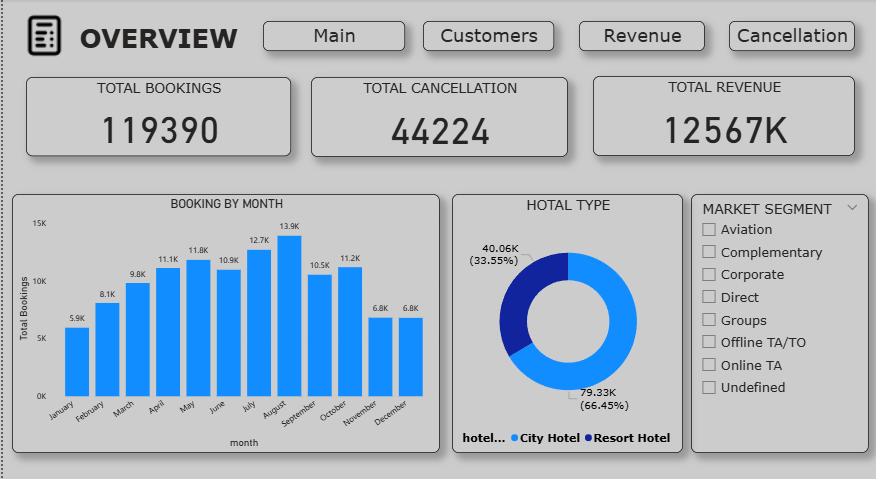

The dashboard page shown, as its layout file describes it:
{"tool":"powerbi","page":{"name":"OVERVIEW","canvas":[1280,720],"ordinal":0},"visuals":[{"type":"actionButton","title":"Main","box":[380.5,32.2,207.8,43.9],"z":0},{"type":"actionButton","title":"Revenue","box":[842.9,32.2,184.4,43.9],"z":1000},{"type":"actionButton","title":"Customers","box":[614.6,32.2,191.7,43.9],"z":2000},{"type":"actionButton","title":"Cancellation","box":[1062.4,32.2,184.4,43.9],"z":3000},{"type":"card","title":"TOTAL BOOKINGS","fields":{"Values":["hotel_bookings.Total Bookings"]},"box":[33.7,114.1,387.8,115.6],"z":4000},{"type":"card","title":"TOTAL CANCELLATION","fields":{"Values":["hotel_bookings.Total Cancellations"]},"box":[450.7,114.1,376.1,117.1],"z":5000},{"type":"card","title":"TOTAL REVENUE","fields":{"Values":["hotel_bookings.Total_Revenue"]},"box":[863.4,112.7,383.4,117.1],"z":6000},{"type":"columnChart","title":"BOOKING BY MONTH","fields":{"Y":["hotel_bookings.Total Bookings"],"Category":["hotel_bookings.arrival_date_month"]},"box":[13.2,285.4,626.3,379],"z":7000},{"type":"donutChart","title":"HOTAL TYPE","fields":{"Category":["hotel_bookings.hotel type"],"Y":["CountNonNull(hotel_bookings.hotel type)"]},"box":[657.1,285.4,338,379],"z":8000},{"type":"slicer","fields":{"Values":["hotel_bookings.market_segment"]},"box":[1006.8,285.4,260.5,379],"z":9000},{"type":"textbox","box":[93.7,11.7,267.8,83.4],"z":10000},{"type":"image","box":[13.2,2.9,95.1,101],"z":11000}]}

Visuals, with their boxes in screenshot pixels (x1, y1, x2, y2), scaled from the page's 1280x720 canvas onto the 876x479 screenshot:
"Main" actionButton: <region>260, 21, 403, 51</region>
"Revenue" actionButton: <region>577, 21, 703, 51</region>
"Customers" actionButton: <region>421, 21, 552, 51</region>
"Cancellation" actionButton: <region>727, 21, 853, 51</region>
"TOTAL BOOKINGS" card: <region>23, 76, 288, 153</region>
"TOTAL CANCELLATION" card: <region>308, 76, 566, 154</region>
"TOTAL REVENUE" card: <region>591, 75, 853, 153</region>
"BOOKING BY MONTH" columnChart: <region>9, 190, 438, 442</region>
"HOTAL TYPE" donutChart: <region>450, 190, 681, 442</region>
slicer - hotel_bookings.market_segment: <region>689, 190, 867, 442</region>
textbox: <region>64, 8, 247, 63</region>
image: <region>9, 2, 74, 69</region>
